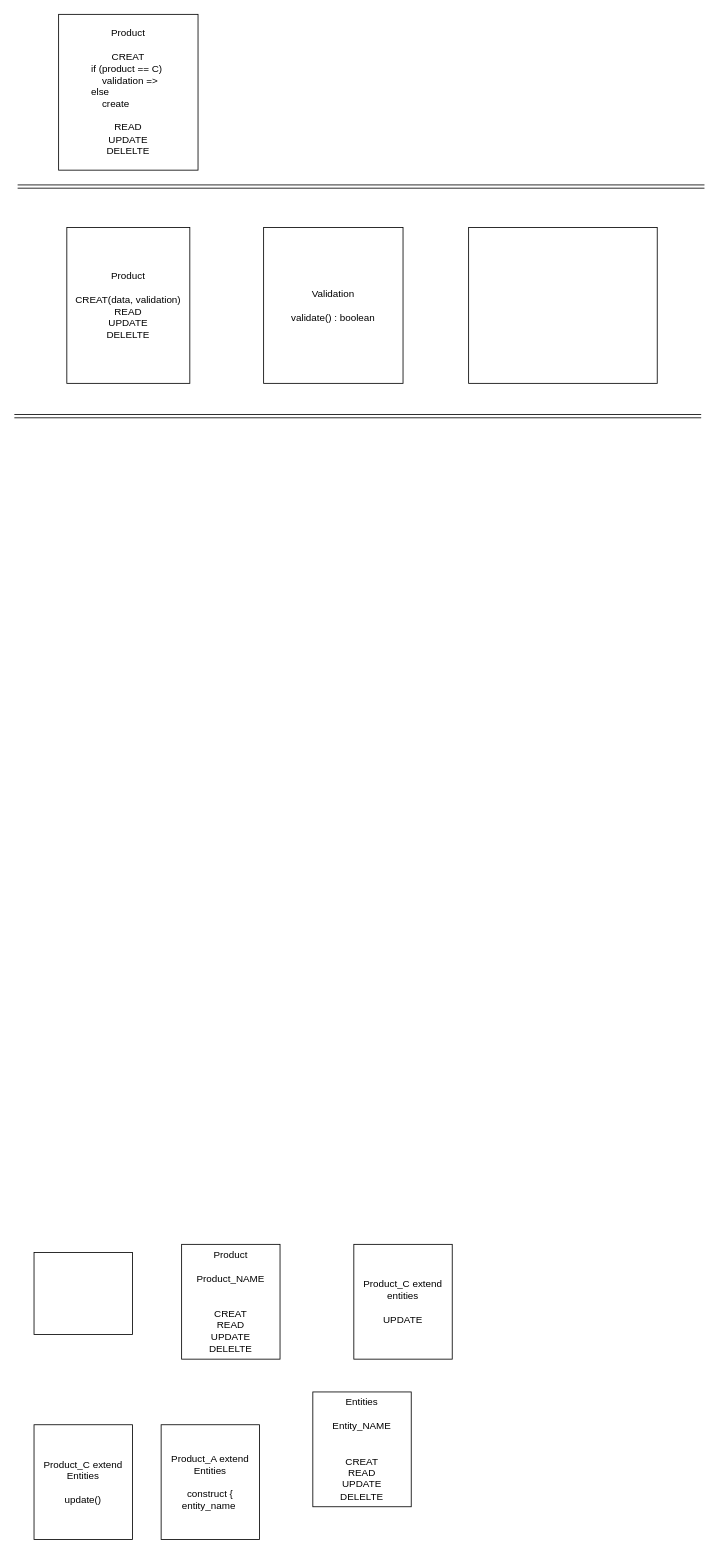
This 719x1554 diagram has some shape labels left out. Here are the shapes that lost their labels. From the top down, the centre of each, then its label:
pixel 562 305: Main if(product == c ) product.creaate( new Validation() )
pixel 82 1293: Interface CREAT READ UPDATE DELELTE
